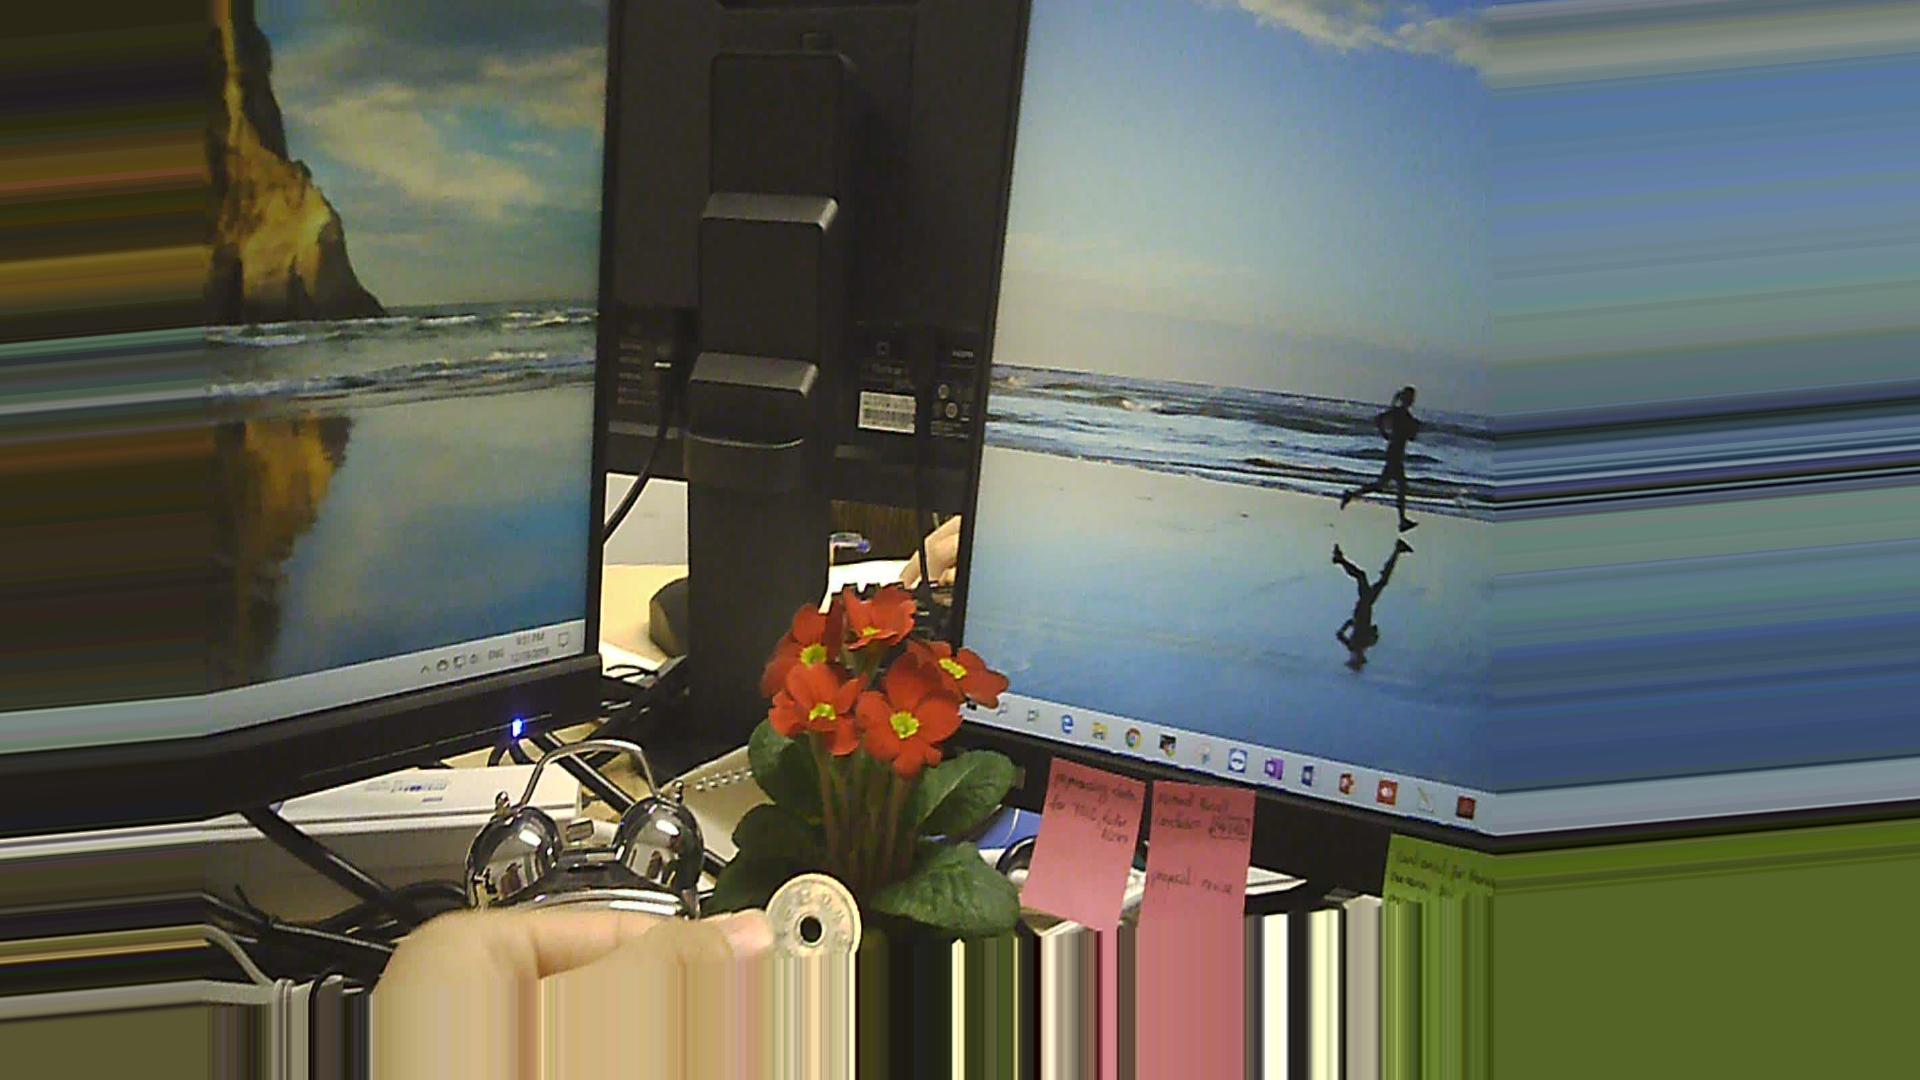5 Yen: (754, 865, 868, 957)
